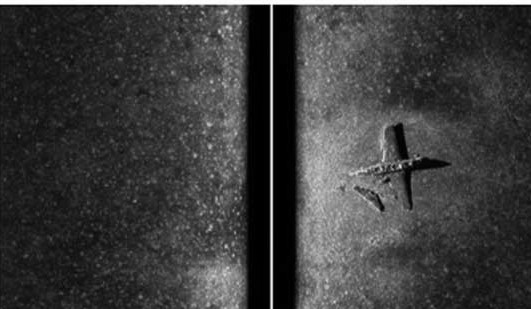plane: (353, 126, 431, 210)
